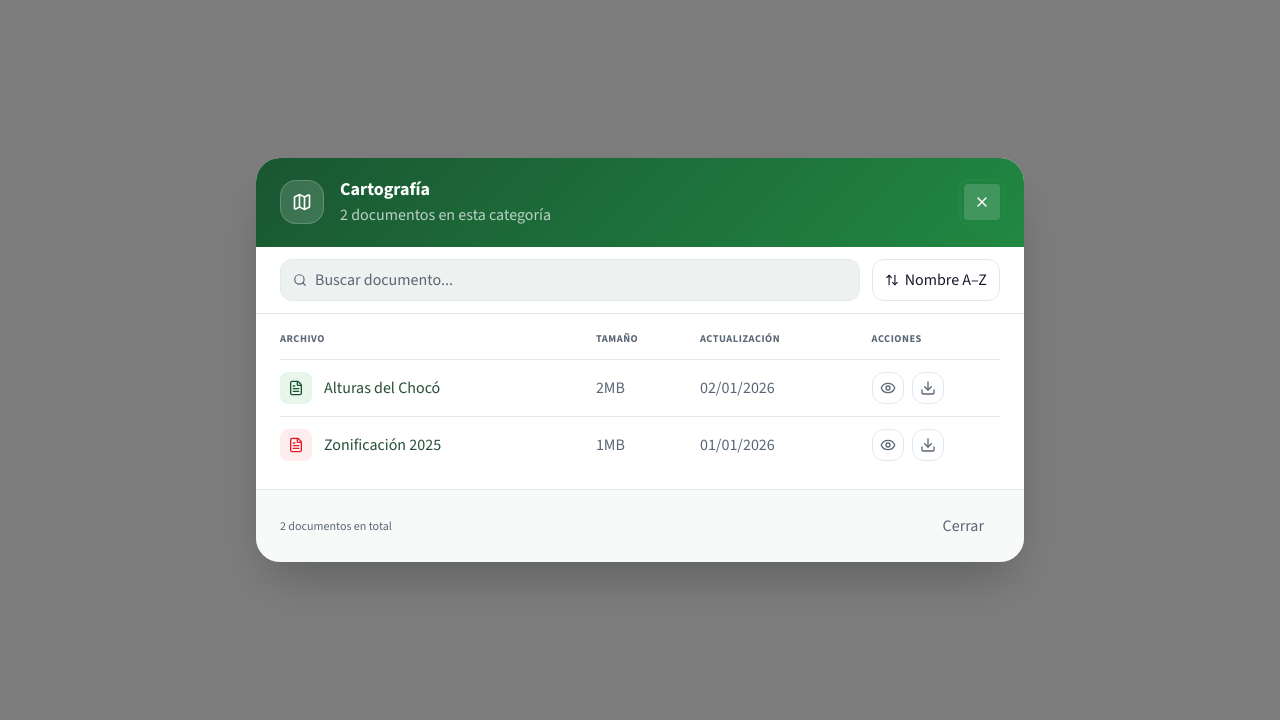
Test: CategoryModal — búsqueda y orden › ordenar Z-A invierte el orden de los documentos
Click the button "Nombre A–Z" at (936, 280), box [872,259,1000,301]
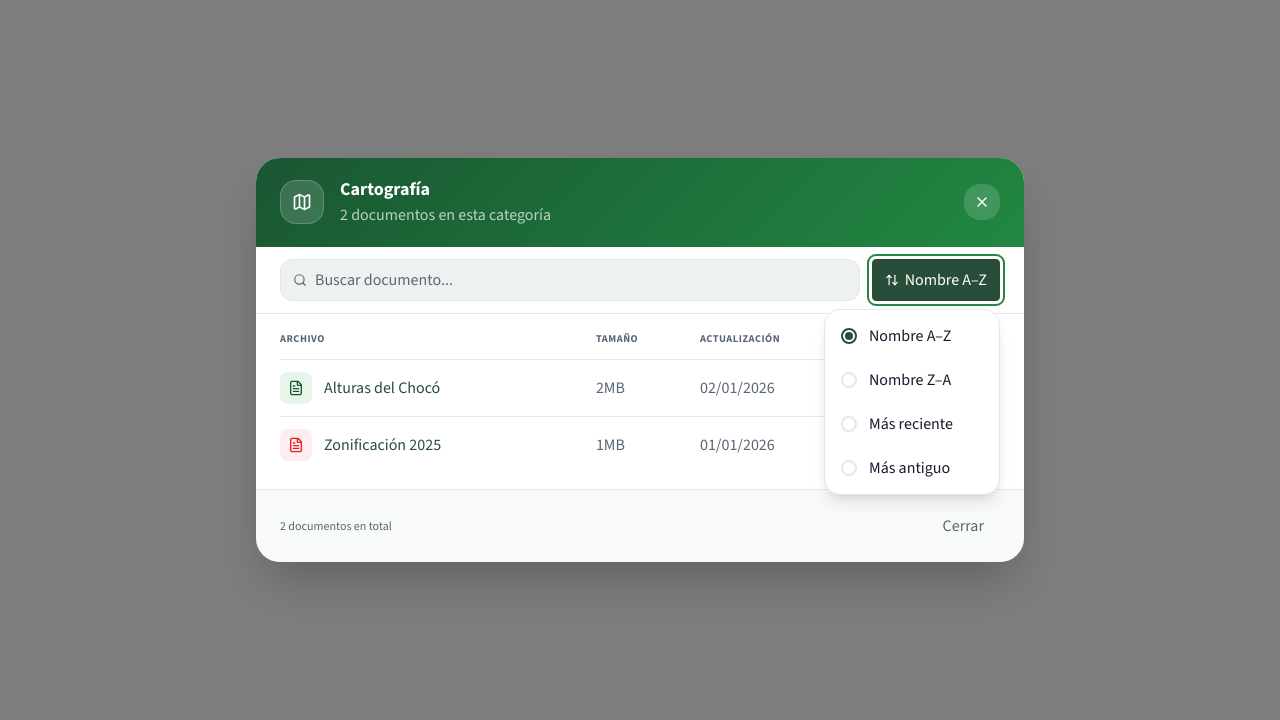
Click the button "Nombre Z–A" at (912, 380), box [825,358,999,402]
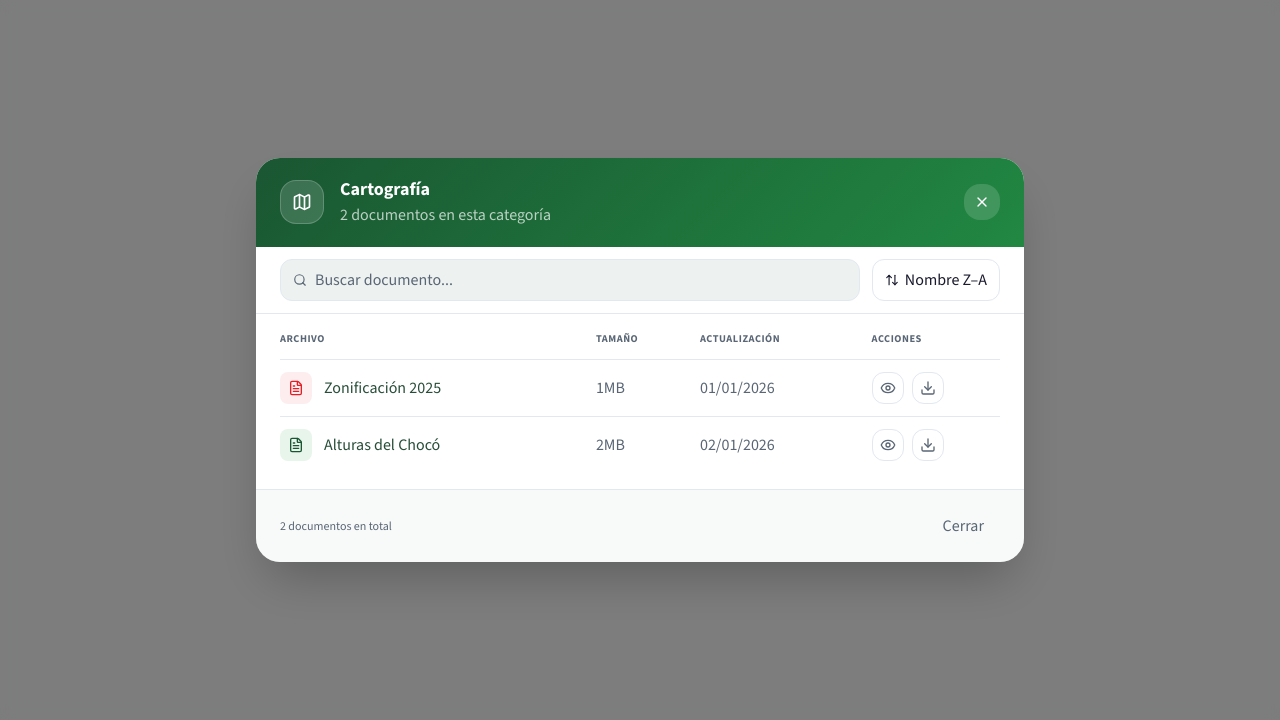
Check: the row "Zonificación 2025 1MB 01/01/2026" is shown, box [280,359,1000,416]
Check: the row "Alturas del Chocó 2MB 02/01/2026" is shown, box [280,416,1000,473]
